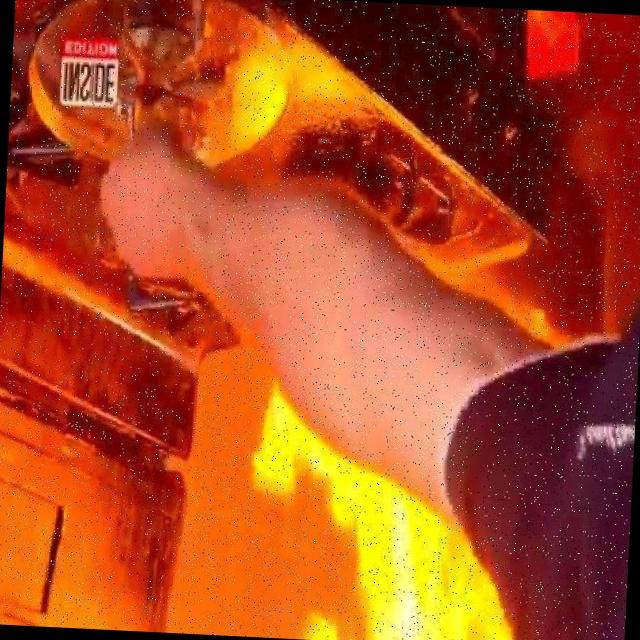fire: (245, 408, 523, 640), (170, 5, 348, 207)
